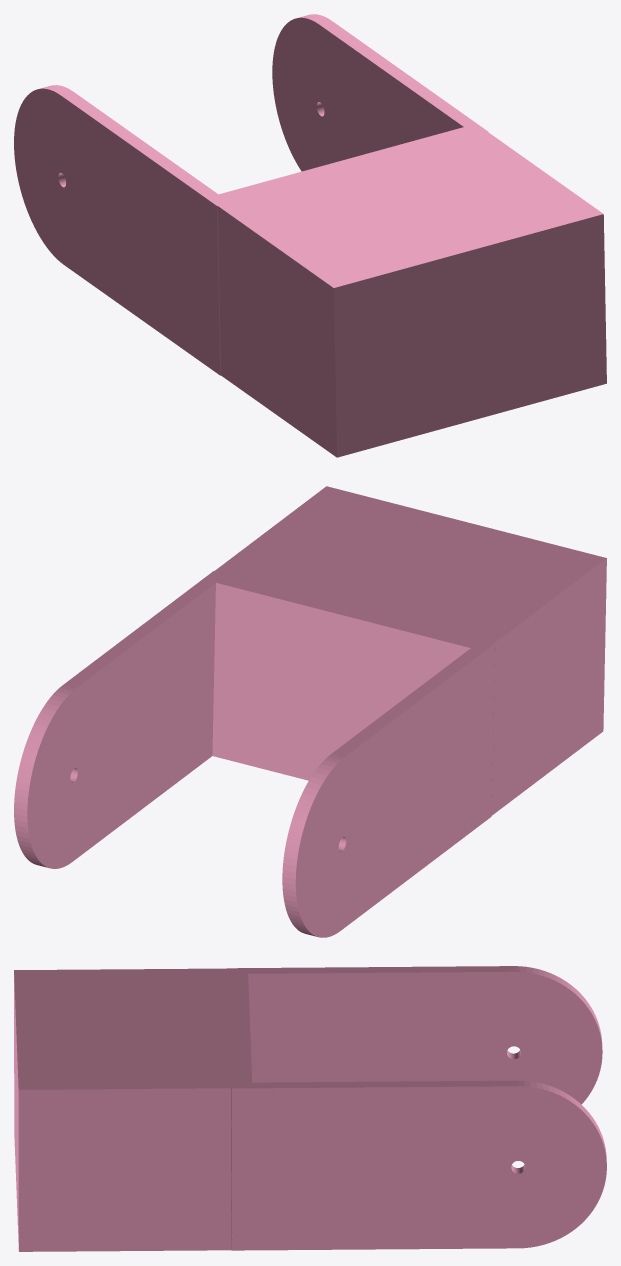
File: cabeza.obj
3 views of the same model, one above another, from view 1: azimuth 30°, elevation 25°; view 2: azimuth 150°, elevation 25°; view 3: azimuth 270°, elevation 25° (orthographic). The views are drawn at different scales.
Visible parts, largest first — view 1: GDL4_OT; view 2: GDL4_OT; view 3: GDL4_OT.
Boxes of the visible parts, bbox=[...] form: GDL4_OT: bbox=[14, 14, 606, 457]; GDL4_OT: bbox=[14, 486, 606, 937]; GDL4_OT: bbox=[14, 966, 606, 1251].
Bounding box in the file's own units: 43.56 × 27.43 × 83.66.
